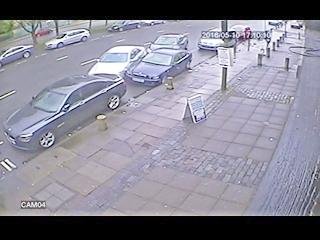Car: (4, 77, 126, 145), (132, 49, 192, 84), (98, 44, 144, 81), (45, 29, 89, 49), (0, 45, 32, 69), (198, 28, 228, 52), (150, 33, 189, 51), (108, 20, 141, 32), (229, 24, 251, 40), (35, 28, 53, 37), (141, 20, 161, 26)
Minor Accident: (98, 42, 193, 86)
